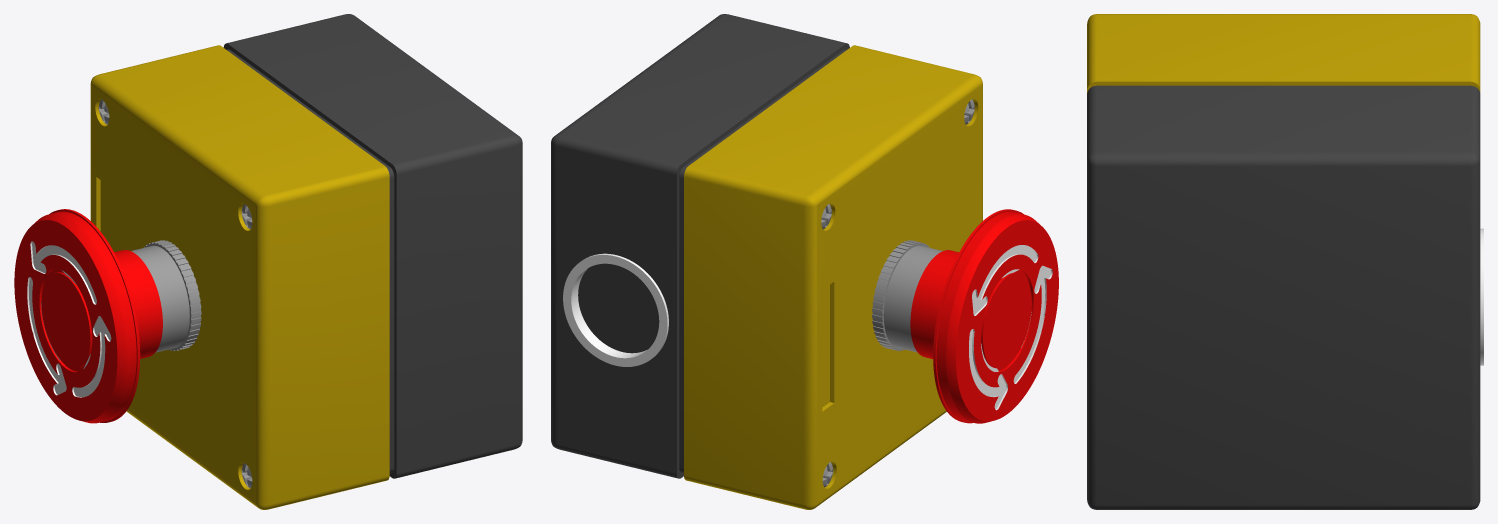
The model's file is Emergency_Stop.obj.
The picture shows the model from 3 angles, left to right: view 1: azimuth 30°, elevation 25°; view 2: azimuth 150°, elevation 25°; view 3: azimuth 270°, elevation 25°; orthographic projection. The views are drawn at different scales.
Parts seen in each view (by area): view 1: BOOLE_BOTTOM_UP, BOTTOM_DOWN, KNOP_BOVEN, KNOP_STAM, Extrude, KNOP-ONDER; view 2: BOOLE_BOTTOM_UP, BOTTOM_DOWN, KNOP_BOVEN, KNOP_STAM, CONNECTOR, Extrude, KNOP-ONDER; view 3: BOTTOM_DOWN, BOOLE_BOTTOM_UP, CONNECTOR.
Boxes of the visible parts, x1=… form: BOOLE_BOTTOM_UP: x1=90, y1=45, x2=389, y2=509; BOTTOM_DOWN: x1=223, y1=14, x2=522, y2=478; KNOP_BOVEN: x1=14, y1=209, x2=140, y2=423; KNOP_STAM: x1=131, y1=240, x2=201, y2=352; Extrude: x1=27, y1=241, x2=111, y2=397; KNOP-ONDER: x1=114, y1=250, x2=162, y2=358; BOOLE_BOTTOM_UP: x1=684, y1=45, x2=982, y2=509; BOTTOM_DOWN: x1=551, y1=14, x2=849, y2=478; KNOP_BOVEN: x1=933, y1=209, x2=1058, y2=423; KNOP_STAM: x1=872, y1=240, x2=942, y2=352; CONNECTOR: x1=563, y1=253, x2=668, y2=366; Extrude: x1=969, y1=245, x2=1052, y2=410; KNOP-ONDER: x1=910, y1=250, x2=958, y2=358; BOTTOM_DOWN: x1=1087, y1=85, x2=1480, y2=509; BOOLE_BOTTOM_UP: x1=1087, y1=14, x2=1480, y2=93; CONNECTOR: x1=1480, y1=228, x2=1483, y2=365.
Size of the model in its own units: 302 by 242 by 244.
